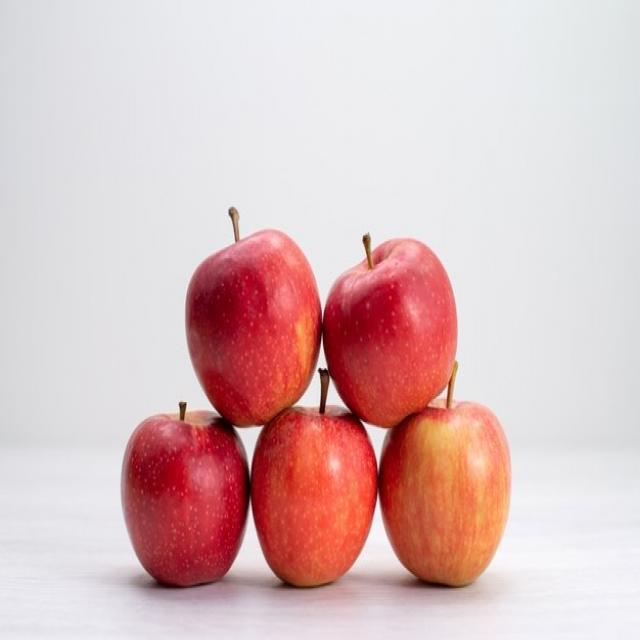apple: (183, 210, 327, 424), (326, 224, 458, 419), (252, 399, 378, 589), (384, 402, 511, 589), (122, 408, 250, 591)
